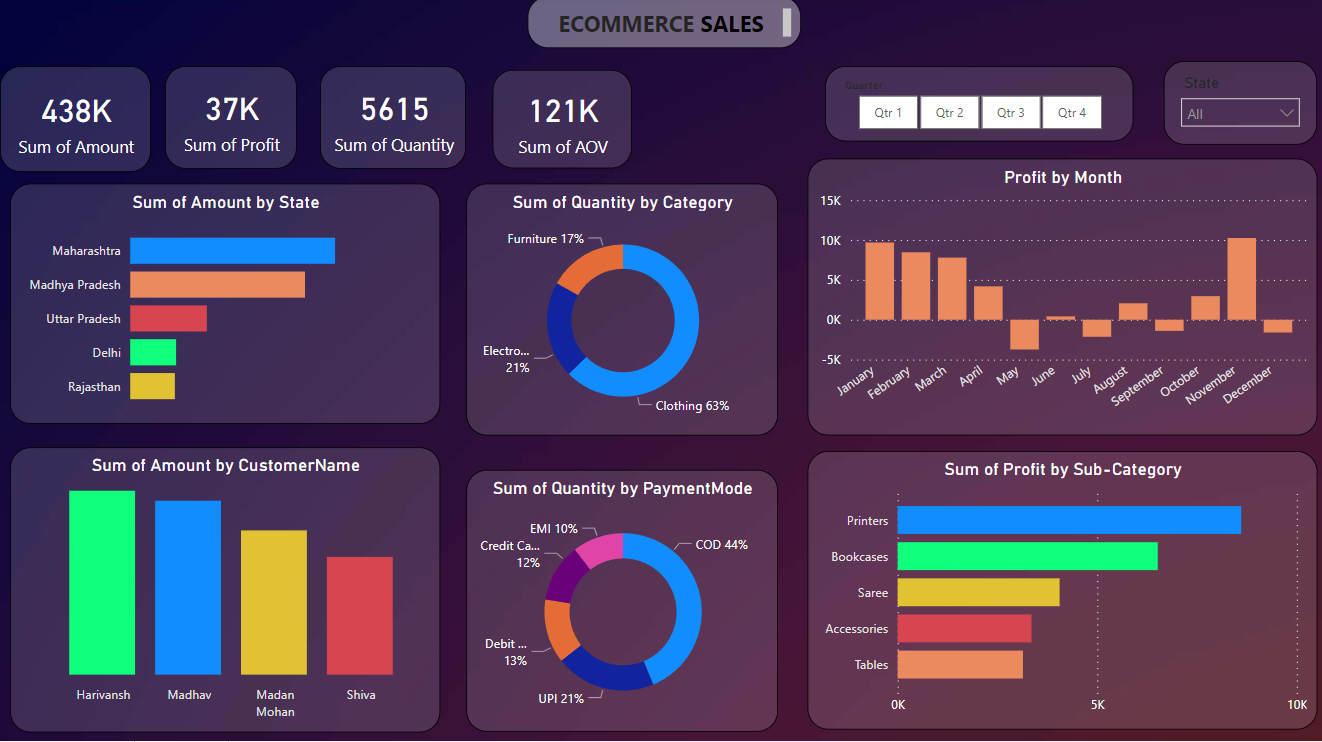

What the dashboard file says about the page in this screenshot:
{"tool":"powerbi","page":{"name":"Page 1","canvas":[1280,720],"ordinal":0},"visuals":[{"type":"clusteredColumnChart","title":"Profit by Month","fields":{"Category":["Orders.Order Date.Variation.Date Hierarchy.Month"],"Y":["Sum(Details.Profit)"]},"box":[778.7,156.6,492.1,267],"z":0},{"type":"barChart","fields":{"Y":["Sum(Details.Profit)"],"Category":["Details.Sub-Category"]},"box":[778.7,439,492.1,268.4],"z":1000},{"type":"donutChart","fields":{"Category":["Details.Category"],"Y":["Sum(Details.Quantity)"]},"box":[450.2,180.3,300.6,243.3],"z":2000},{"type":"donutChart","fields":{"Y":["Sum(Details.Quantity)"],"Category":["Details.PaymentMode"]},"box":[450.2,457.1,300.6,253],"z":3000},{"type":"card","fields":{"Values":["Sum(Details.Amount)"]},"box":[0,67.1,145.4,102.1],"z":4000},{"type":"card","fields":{"Values":["Sum(Details.Profit)"]},"box":[159.4,67.1,127.2,99.3],"z":5000},{"type":"card","fields":{"Values":["Sum(Details.Quantity)"]},"box":[309,67.1,141.2,99.3],"z":6000},{"type":"card","fields":{"Values":["Sum(Details.AOV)"]},"box":[475.3,71.3,134.2,95.1],"z":7000},{"type":"barChart","fields":{"Category":["Orders.State"],"Y":["Sum(Details.Amount)"]},"box":[9.8,180.3,415.2,232.1],"z":8000},{"type":"columnChart","fields":{"Category":["Orders.CustomerName"],"Y":["Sum(Details.Amount)"]},"box":[9.8,434.8,415.2,275.4],"z":9000},{"type":"textbox","box":[508.9,0,264.2,50.3],"z":9001},{"type":"slicer","fields":{"Values":["Orders.Order Date.Variation.Date Hierarchy.Quarter"]},"box":[795.5,67.1,297.8,72.7],"z":9002},{"type":"slicer","fields":{"Values":["Orders.State"]},"box":[1122.6,62.9,148.2,81.1],"z":9003}]}

Visuals, with their boxes in screenshot pixels (x1, y1, x2, y2), scaled from the page's 1280x720 canvas onto the 1322x742 screenshot:
"Profit by Month" clusteredColumnChart: select_region(804, 161, 1312, 437)
barChart - Sum(Details.Profit) x Details.Sub-Category: select_region(804, 452, 1312, 729)
donutChart - Details.Category x Sum(Details.Quantity): select_region(465, 186, 775, 437)
donutChart - Sum(Details.Quantity) x Details.PaymentMode: select_region(465, 471, 775, 732)
card - Sum(Details.Amount): select_region(0, 69, 150, 174)
card - Sum(Details.Profit): select_region(165, 69, 296, 171)
card - Sum(Details.Quantity): select_region(319, 69, 465, 171)
card - Sum(Details.AOV): select_region(491, 73, 629, 171)
barChart - Orders.State x Sum(Details.Amount): select_region(10, 186, 439, 425)
columnChart - Orders.CustomerName x Sum(Details.Amount): select_region(10, 448, 439, 732)
textbox: select_region(526, 0, 798, 52)
slicer - Orders.Order Date.Variation.Date Hierarchy.Quarter: select_region(822, 69, 1129, 144)
slicer - Orders.State: select_region(1159, 65, 1312, 148)
